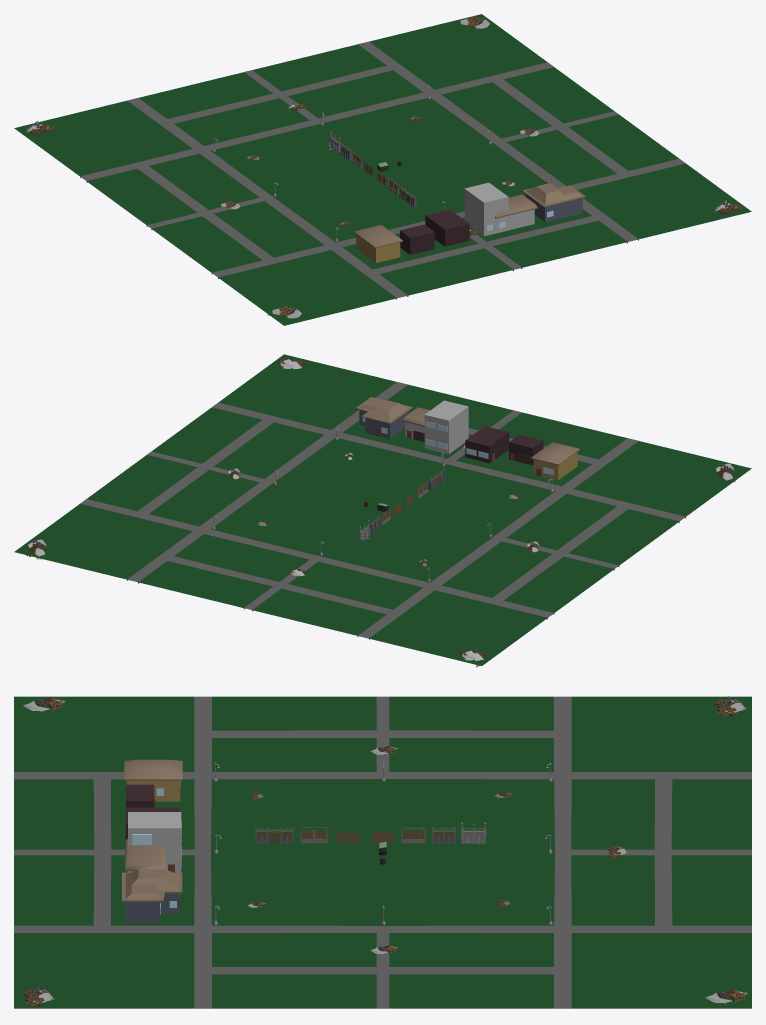
File: Level.fbx
3 renders of one model, top to bottom at view 1: azimuth 30°, elevation 25°; view 2: azimuth 150°, elevation 25°; view 3: azimuth 270°, elevation 25°, orthographic. The views are drawn at different scales.
Parts seen in each view (by area): view 1: Ground, Roads, House_3 (×2), House_1, House_4, House_2_Roof, House_4_Roof, House_2, House_1_Roof; view 2: Ground, Roads, House_1, House_3 (×2), House_2_Roof, House_4_Roof, House_4, House_2; view 3: Ground, Roads, House_1, House_2, House_4_Roof, House_2_Roof, House_1_Roof, House_3, House_4.
Boxes of the visible parts, box(x1,y1,x2,y2) form: Ground: box(14, 14, 751, 325); Roads: box(80, 41, 685, 299); House_3 (×2): box(400, 209, 469, 254); House_1: box(464, 182, 508, 236); House_4: box(356, 235, 400, 262); House_2_Roof: box(522, 183, 572, 207); House_4_Roof: box(353, 225, 402, 248); House_2: box(525, 194, 569, 222); House_1_Roof: box(495, 194, 537, 218); Ground: box(14, 354, 751, 665); Roads: box(80, 382, 685, 639); House_1: box(424, 400, 468, 454); House_3 (×2): box(465, 426, 543, 465); House_2_Roof: box(362, 400, 412, 423); House_4_Roof: box(531, 442, 580, 465); House_4: box(533, 452, 577, 480); House_2: box(365, 411, 409, 438); Ground: box(14, 696, 751, 1008); Roads: box(14, 696, 751, 1008); House_1: box(128, 812, 181, 872); House_2: box(122, 884, 165, 922); House_4_Roof: box(124, 759, 182, 780); House_2_Roof: box(122, 869, 182, 893); House_1_Roof: box(125, 839, 165, 871); House_3: box(126, 784, 154, 807); House_4: box(126, 781, 180, 801).
Size of the model in its own units: 739 by 58.38 by 738.
